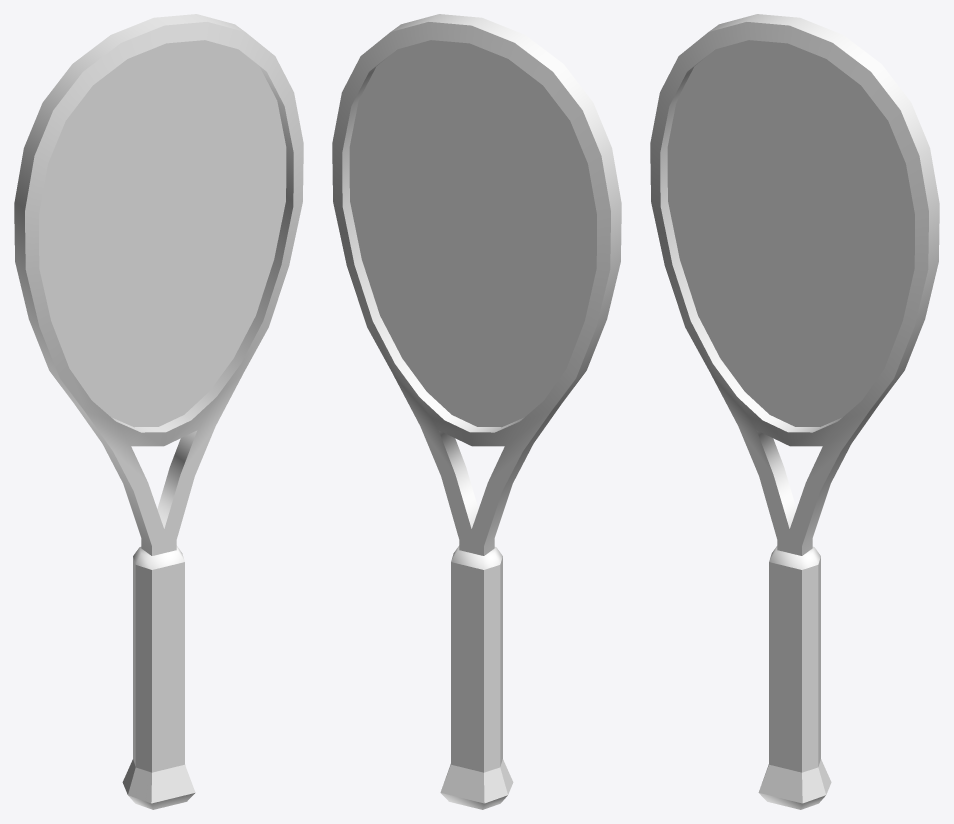
The model's file is tns_r_color.glb.
The picture shows the model from 3 angles, left to right: view 1: azimuth 30°, elevation 25°; view 2: azimuth 150°, elevation 25°; view 3: azimuth 330°, elevation 25°; orthographic projection.
Parts seen in each view (by area): view 1: polygon0, polygon2, polygon1; view 2: polygon0, polygon2, polygon1; view 3: polygon0, polygon2, polygon1.
Part boxes in pixels (x1,y1,x2,y2): polygon0: (39,40,286,427); polygon2: (14,14,303,555); polygon1: (122,545,195,809); polygon0: (349,40,596,427); polygon2: (332,14,621,555); polygon1: (440,545,513,809); polygon0: (667,40,914,426); polygon2: (650,14,939,555); polygon1: (758,546,831,809).
Size of the model in its own units: 5.04 by 13.4 by 0.9053.
3 materials, 1 textured.
